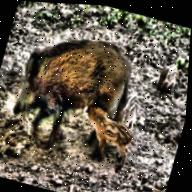boar: (0, 11, 145, 168), (74, 84, 146, 169)
